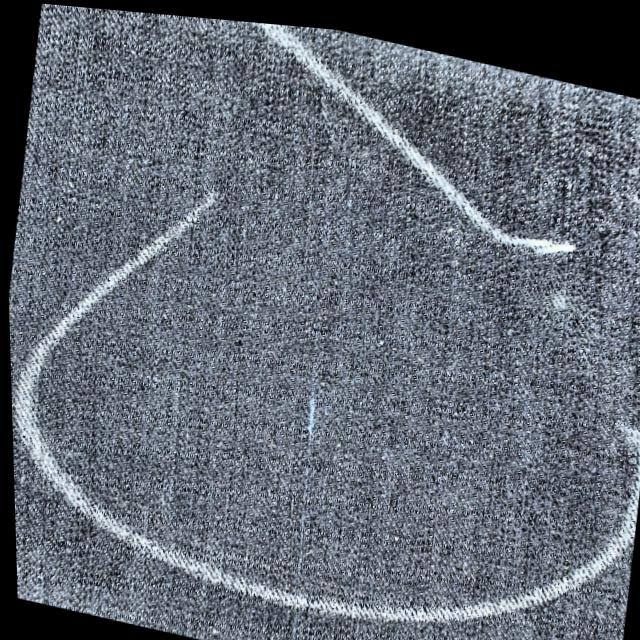Hole: (274, 372, 359, 459)
